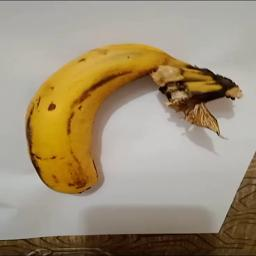Banana Semifresh: (17, 39, 244, 199)
